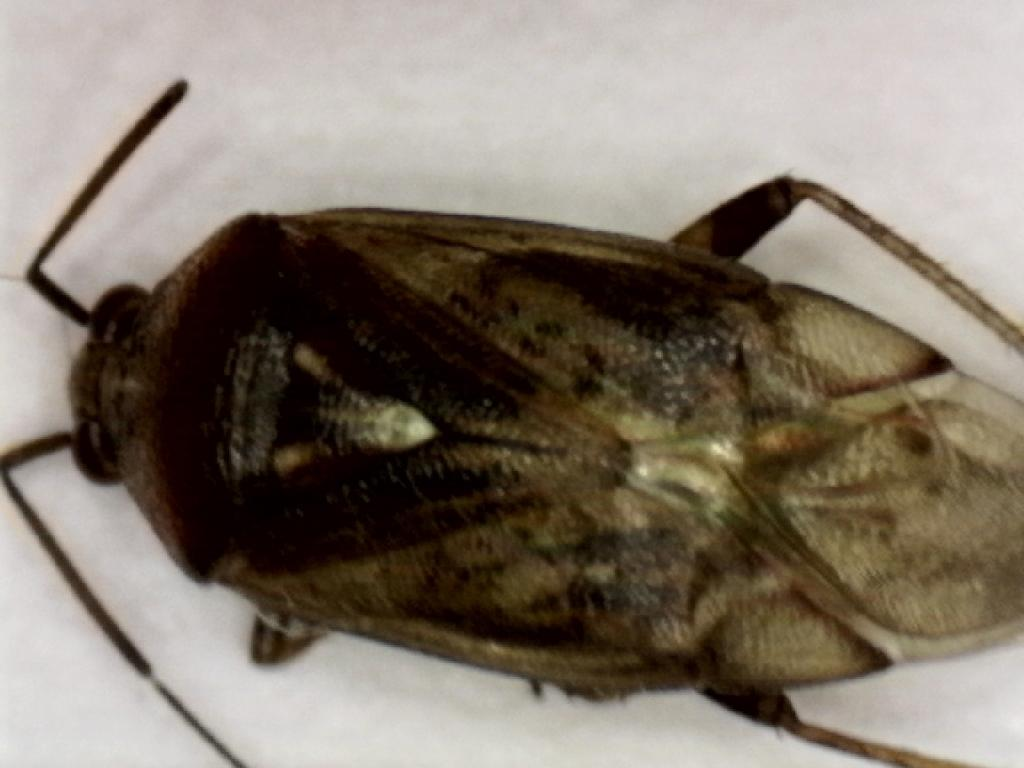plant_bugs: (0, 6, 1024, 768)
